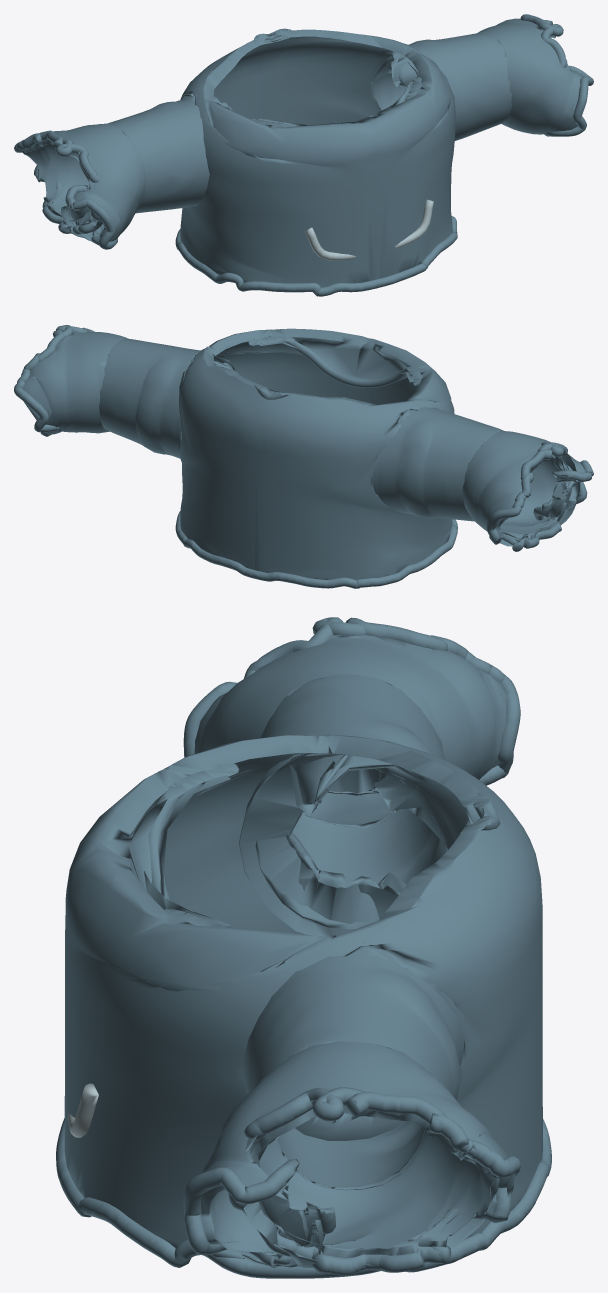
Rendered from 2HT-masculino.glb.
3 renders of one model, top to bottom at view 1: azimuth 30°, elevation 25°; view 2: azimuth 150°, elevation 25°; view 3: azimuth 270°, elevation 25°, orthographic. The views are drawn at different scales.
Visible parts, largest first — view 1: fitted-shell, bound-edge (×6), pocket-seam; view 2: fitted-shell, bound-edge (×5); view 3: fitted-shell, bound-edge (×6), pocket-seam.
Part boxes in pixels (<box>): fitted-shell: <box>21,18,582,287</box>; bound-edge (×6): <box>14,14,593,296</box>; pocket-seam: <box>305,199,433,260</box>; fitted-shell: <box>22,328,585,580</box>; bound-edge (×5): <box>14,325,593,588</box>; fitted-shell: <box>64,635,542,1267</box>; bound-edge (×6): <box>56,617,551,1278</box>; pocket-seam: <box>68,1083,98,1137</box>.
Size of the model in its own units: 0.0858 by 0.0281 by 0.0353.
